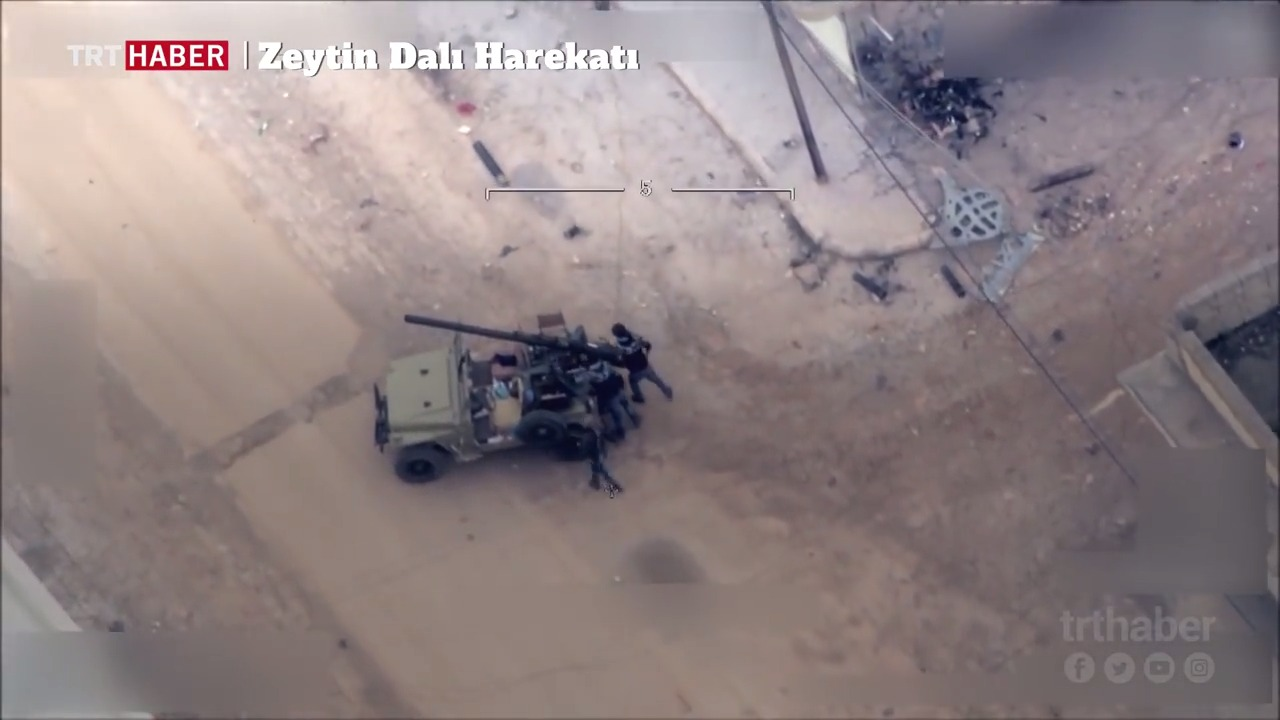arac: (371, 304, 603, 484)
insan: (610, 316, 677, 415), (576, 407, 613, 501)
